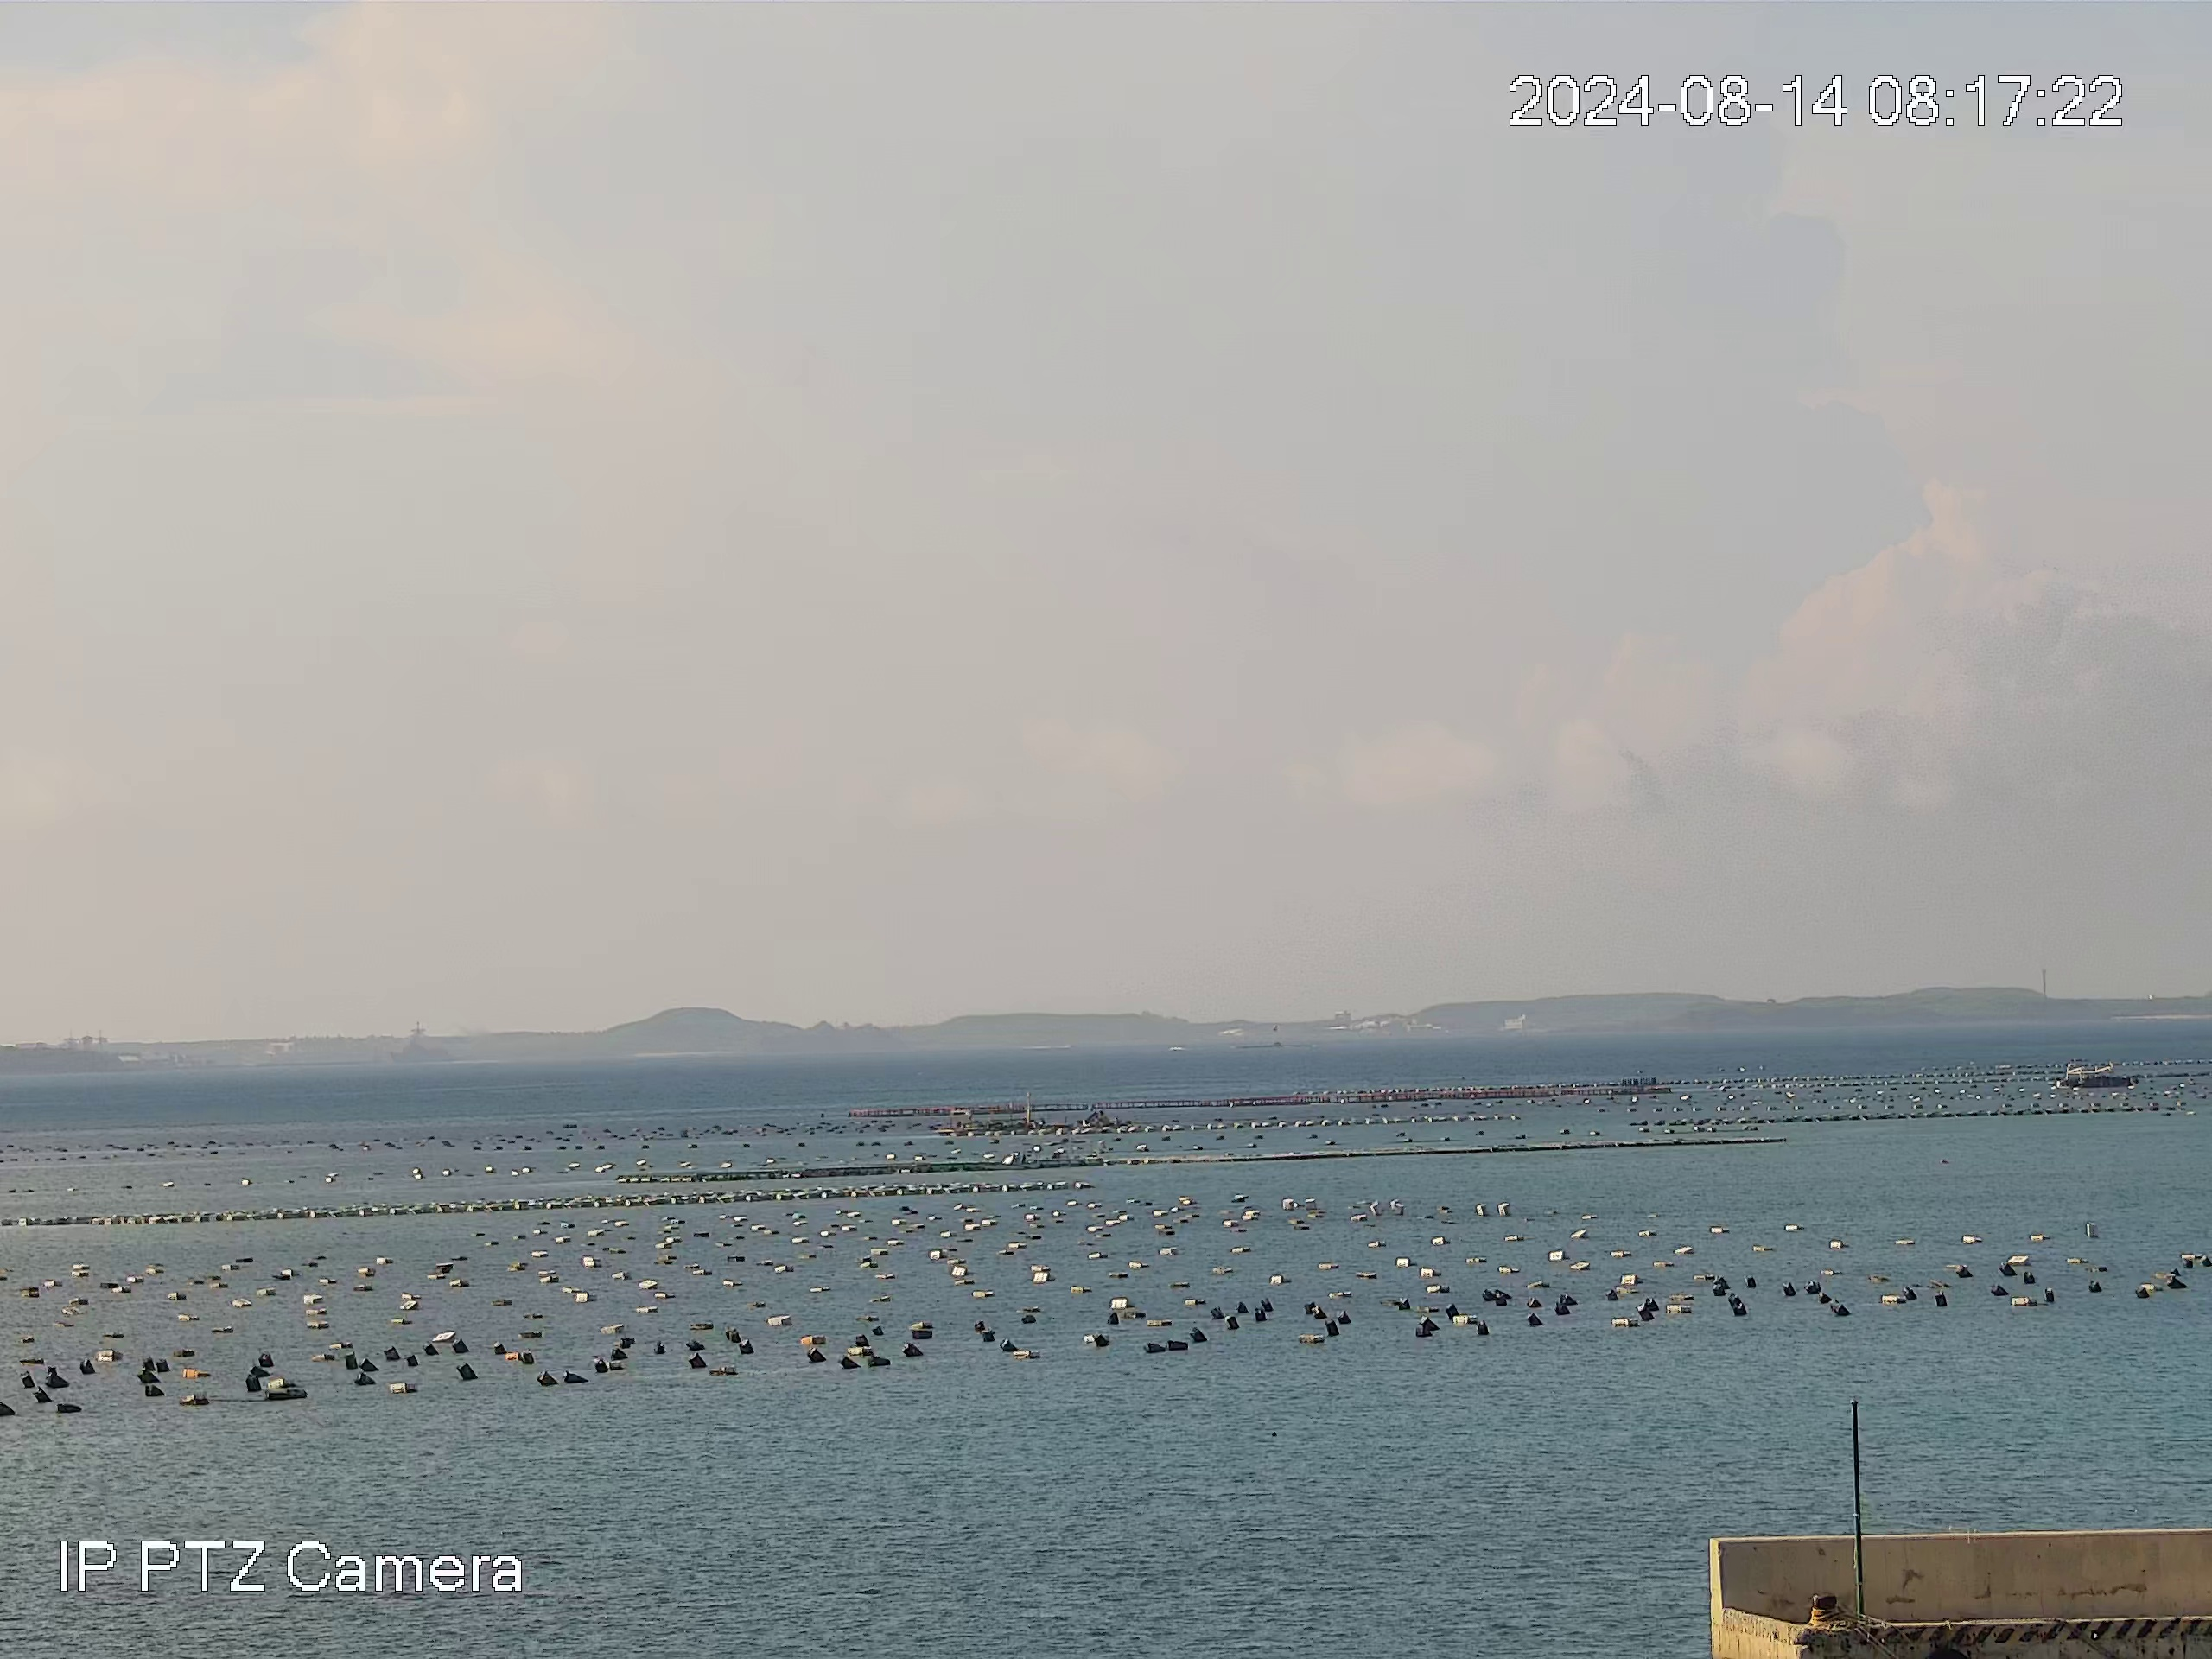boat: (2056, 1064, 2138, 1090), (1017, 1143, 1107, 1167), (934, 1106, 1000, 1135)
